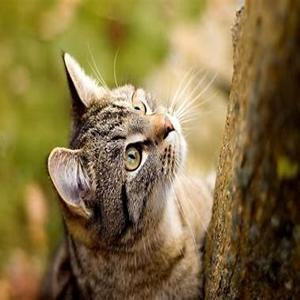cat: (58, 78, 188, 212)
